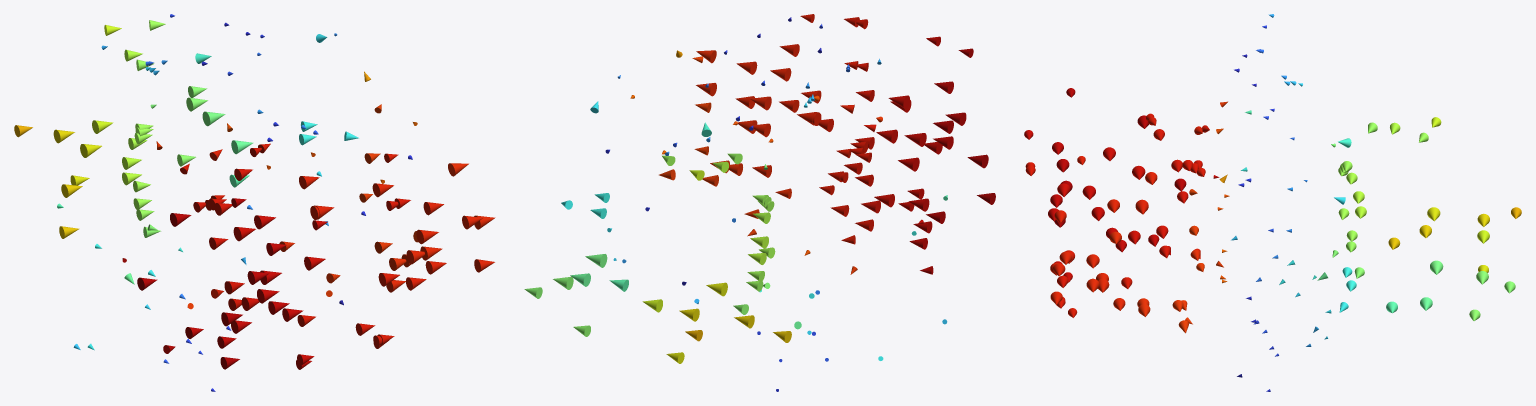
The model's file is LineasCorrienteH2-O2_mh2-2.70_V-0.9.glb.
The picture shows the model from 3 angles, left to right: view 1: azimuth 30°, elevation 25°; view 2: azimuth 150°, elevation 25°; view 3: azimuth 270°, elevation 25°; orthographic projection. The views are drawn at different scales.
Bounding box in the file's own units: 0.000909 × 0.000952 × 0.00124.
Materials: 2 (2 with a texture image).
